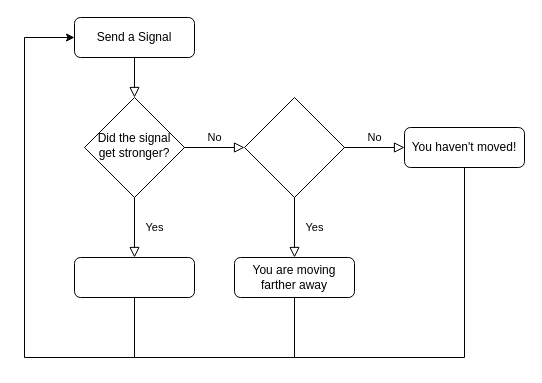
Some shapes in this 542 by 383 pixel diagram are drawn without their labels. The centre of each missing label's shape, as x and y in pixels:
Did the signal get weaker?: the point at 294,147
You are getting closer: the point at 134,277
